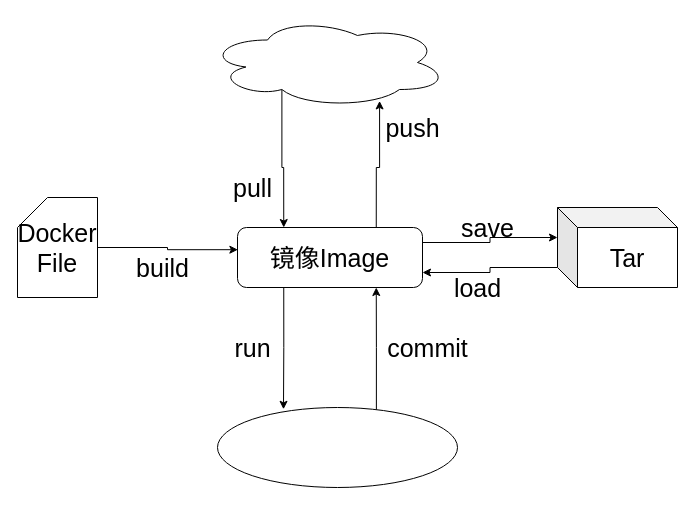
This 695x505 diagram has some shape labels left out. The shapes that lost their labels are listed below. From the top down, each one's centre as x and y in pixels, then its label:
point 327,62: 仓库Repository
point 337,447: 容器 Container
